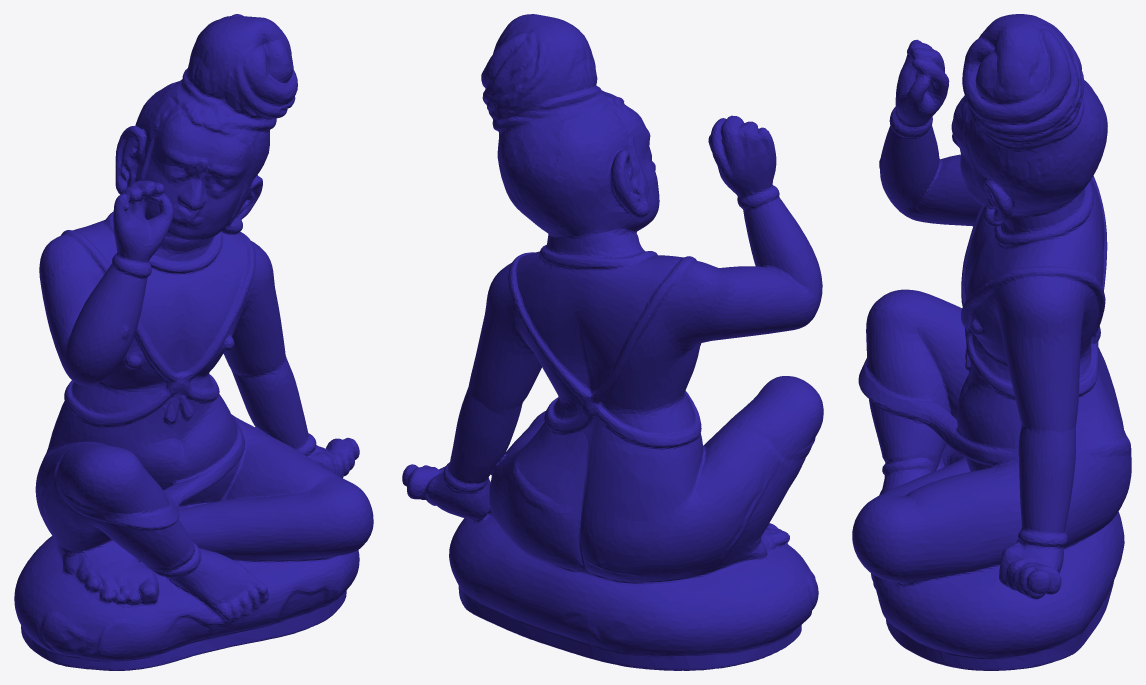
The model's file is iter_20.glb.
3 views of the same model, side by side, from view 1: azimuth 30°, elevation 25°; view 2: azimuth 150°, elevation 25°; view 3: azimuth 270°, elevation 25° (orthographic). The views are drawn at different scales.
Visible parts, largest first — view 1: textured_mesh; view 2: textured_mesh; view 3: textured_mesh.
Boxes of the visible parts, x1,y1,x2,y2 form: textured_mesh: (14, 14, 373, 670); textured_mesh: (402, 14, 823, 670); textured_mesh: (852, 14, 1131, 670).
Bounding box in the file's own units: 1.32 × 1.99 × 0.8304.
